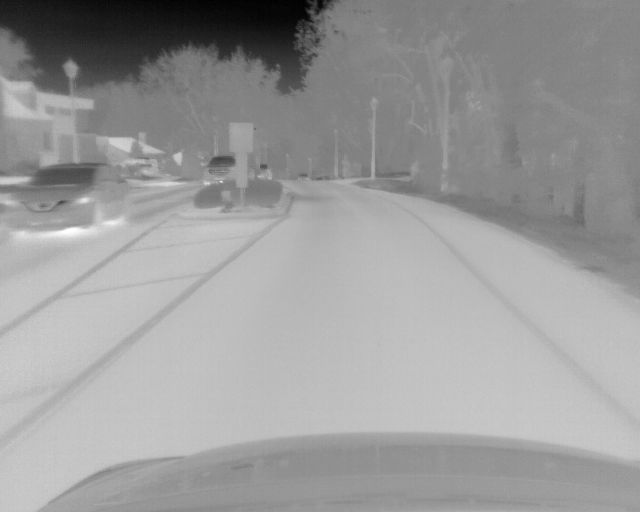car: (3, 161, 132, 236), (201, 155, 237, 187)
people: (256, 163, 274, 182)
